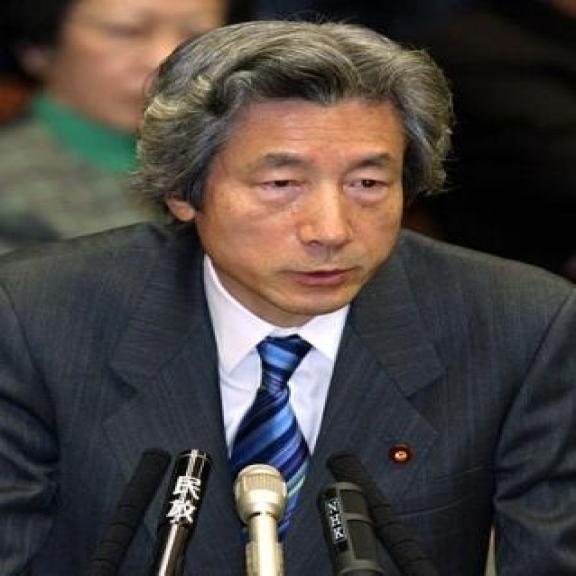face: (171, 94, 419, 312), (21, 0, 227, 136)
